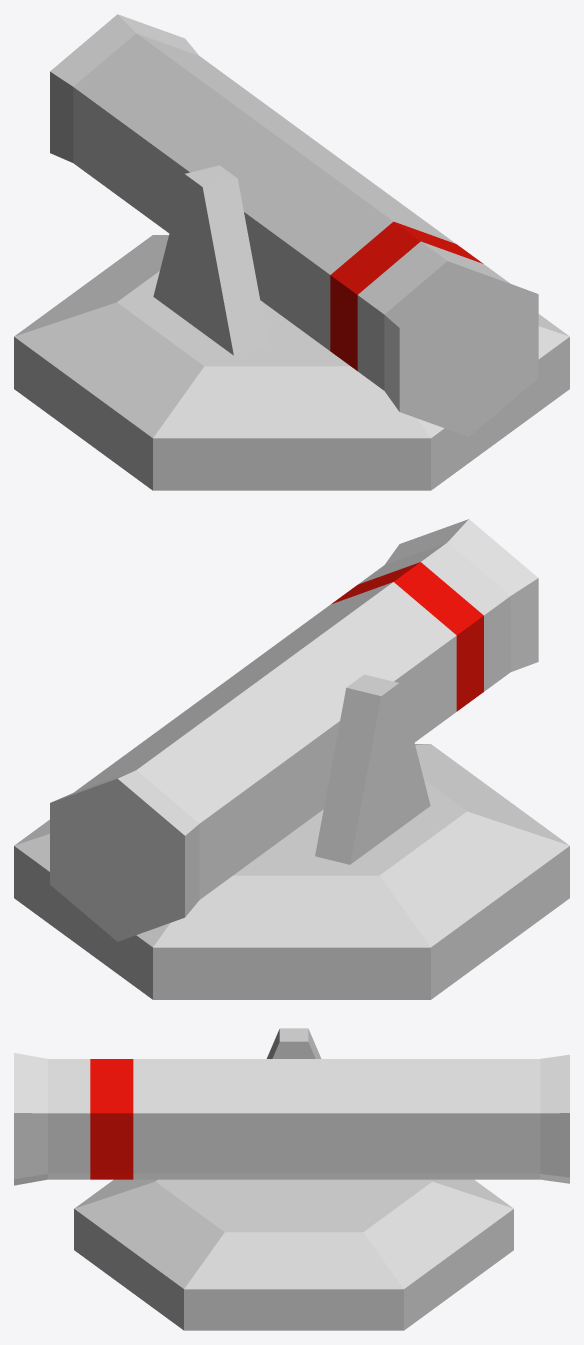
The model's file is TurretMissile.fbx.
3 renders of one model, top to bottom at view 1: azimuth 30°, elevation 25°; view 2: azimuth 150°, elevation 25°; view 3: azimuth 270°, elevation 25°, orthographic. The views are drawn at different scales.
Parts seen in each view (by area): view 1: TurretRocket; view 2: TurretRocket; view 3: TurretRocket.
Boxes of the visible parts, x1,y1,x2,y2 form: TurretRocket: [14, 14, 569, 490]; TurretRocket: [14, 519, 569, 999]; TurretRocket: [14, 1028, 569, 1330].
Size of the model in its own units: 29.72 by 17 by 43.39.
